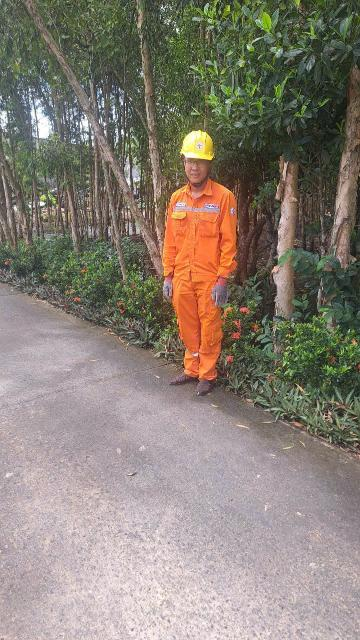gloves: (204, 274, 233, 312), (153, 272, 182, 303)
helmet: (177, 128, 221, 166)
shoes: (159, 365, 199, 390), (194, 368, 218, 398)
